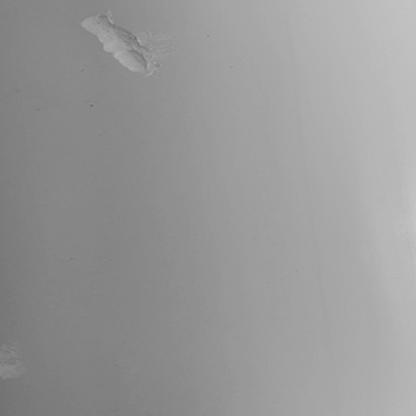sunshang: (76, 6, 161, 79)
